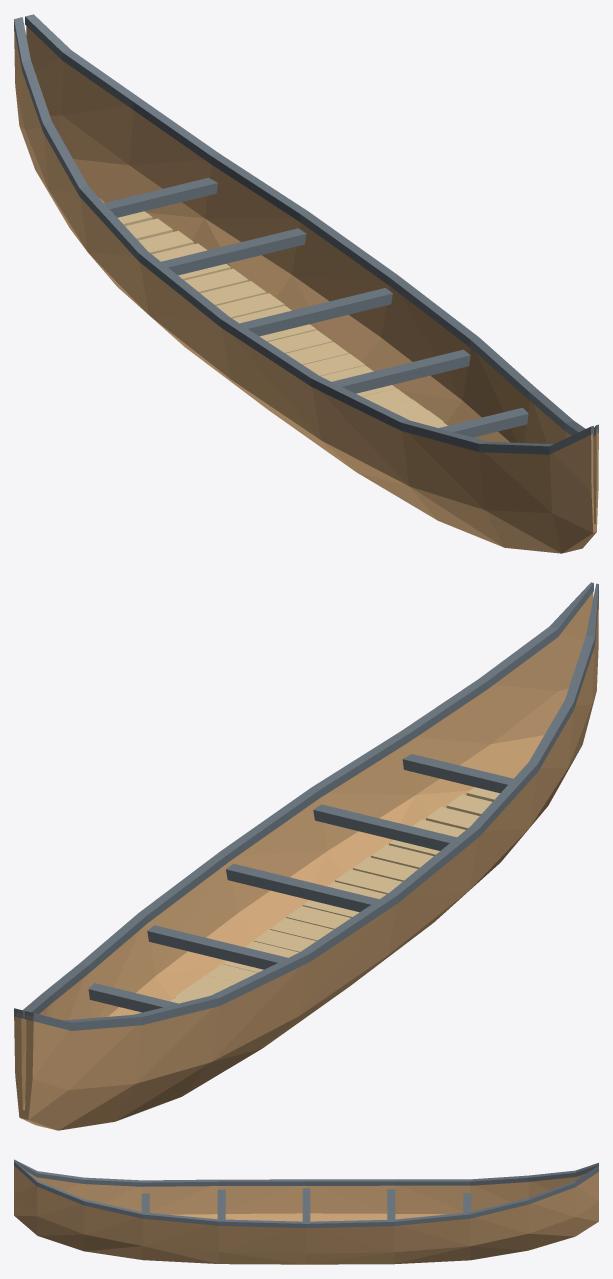
File: boat_blockout.fbx
3 renders of one model, top to bottom at view 1: azimuth 30°, elevation 25°; view 2: azimuth 150°, elevation 25°; view 3: azimuth 270°, elevation 25°, orthographic. The views are drawn at different scales.
Visible parts, largest first — view 1: Boat_Hull_OpenThick, Boat_Crossbeams, Boat_Gunwale_Left, Boat_Deck_Planks, Boat_Gunwale_Right; view 2: Boat_Hull_OpenThick, Boat_Crossbeams, Boat_Gunwale_Left, Boat_Gunwale_Right, Boat_Deck_Planks; view 3: Boat_Hull_OpenThick, Boat_Gunwale_Right, Boat_Gunwale_Left, Boat_Crossbeams.
Part boxes in pixels (<box>): Boat_Hull_OpenThick: <box>14,26,598,553</box>; Boat_Crossbeams: <box>104,177,528,437</box>; Boat_Gunwale_Left: <box>14,17,593,454</box>; Boat_Deck_Planks: <box>117,211,447,427</box>; Boat_Gunwale_Right: <box>25,14,598,437</box>; Boat_Hull_OpenThick: <box>14,592,598,1130</box>; Boat_Crossbeams: <box>88,754,513,1012</box>; Boat_Gunwale_Left: <box>25,583,598,1030</box>; Boat_Gunwale_Right: <box>14,582,593,1019</box>; Boat_Deck_Planks: <box>170,787,499,1003</box>; Boat_Hull_OpenThick: <box>14,1166,598,1264</box>; Boat_Gunwale_Right: <box>14,1161,598,1227</box>; Boat_Gunwale_Left: <box>14,1159,598,1186</box>; Boat_Crossbeams: <box>141,1188,471,1221</box>.
Size of the model in its own units: 1.8 by 1.78 by 10.
